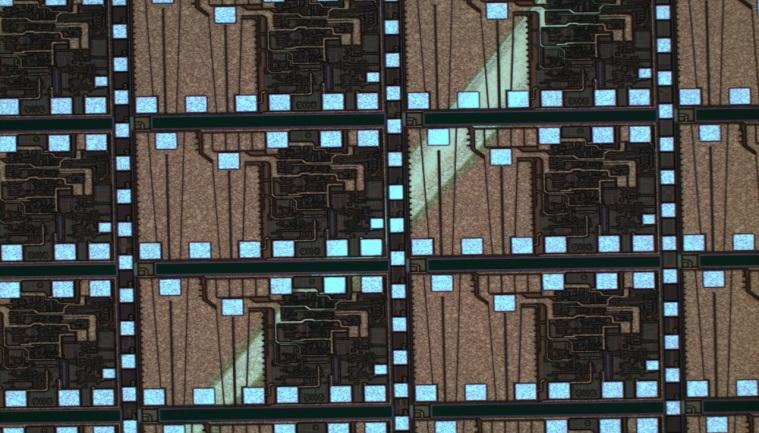COATING BAD: (153, 1, 646, 433)
